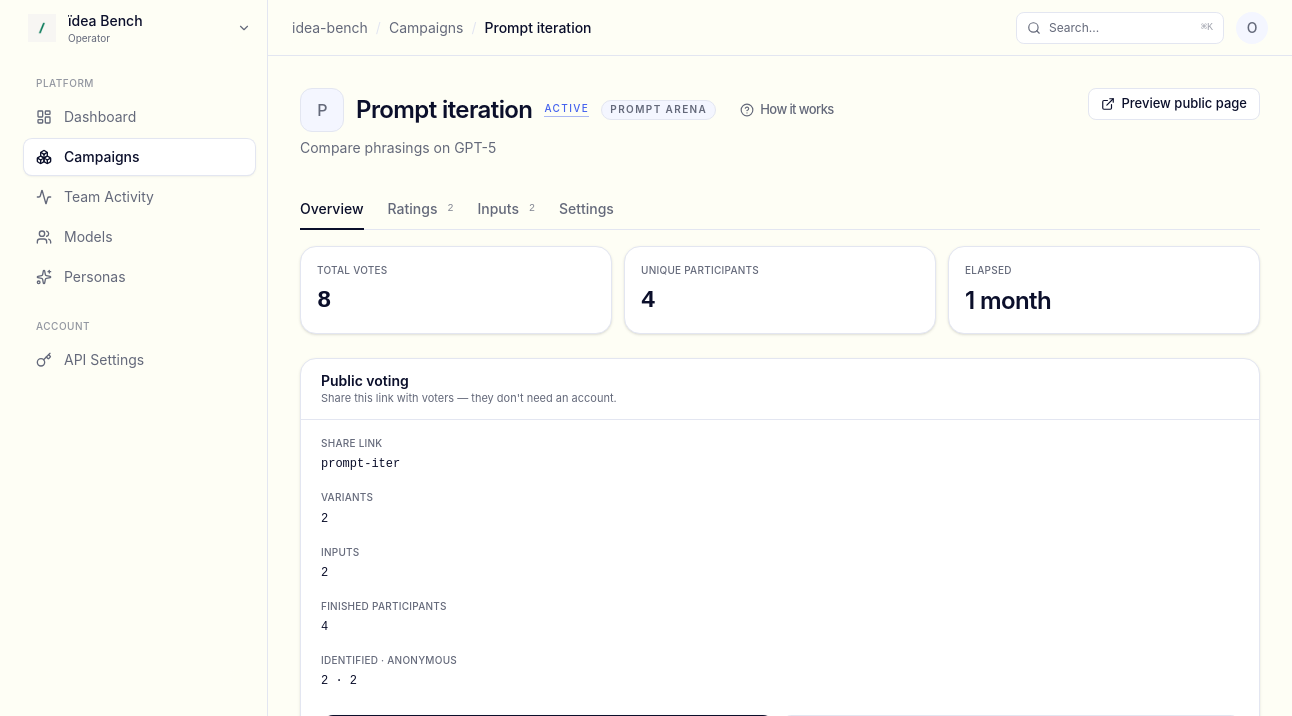
Scenario: CampaignDashboard › prompt-arena surface (kind='prompt') › shows a friendly empty state when prompt-arena has no inputs
Click the tab "Ratings 2". click: (420,210)
box: x1=388 y1=190 x2=453 y2=230
(page scrolled)
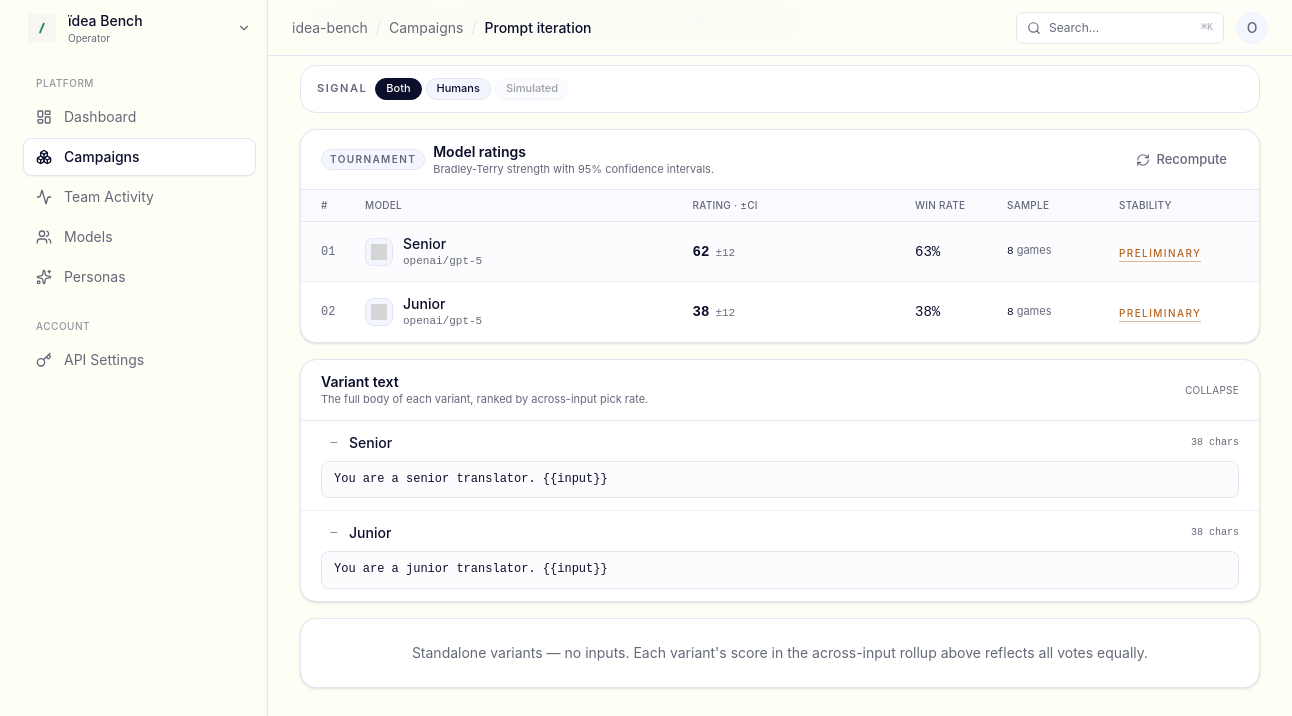
expect the text "Standalone variants — no inputs" is shown: met, box x1=412 y1=644 x2=1148 y2=661
